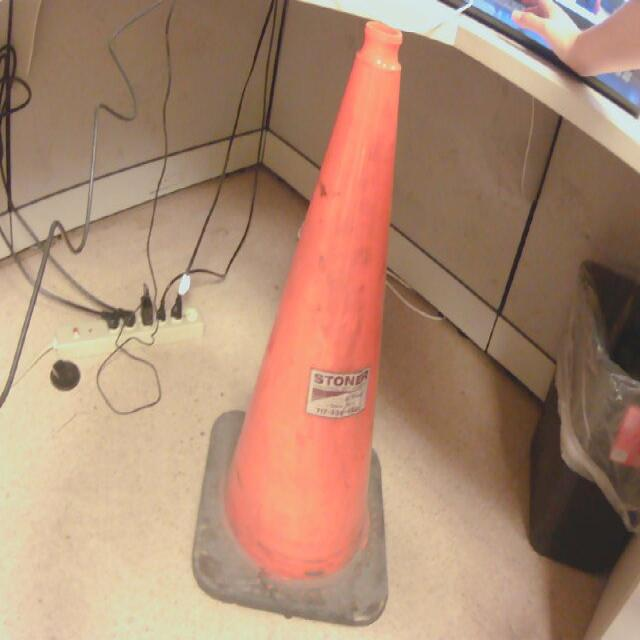traffic cone: (193, 22, 405, 629)
